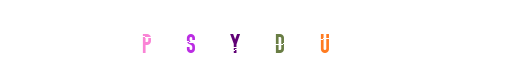D: (239, 0, 319, 80)
P: (137, 0, 217, 80)
S: (195, 0, 275, 80)
U: (284, 0, 364, 80)
Y: (212, 0, 292, 80)
